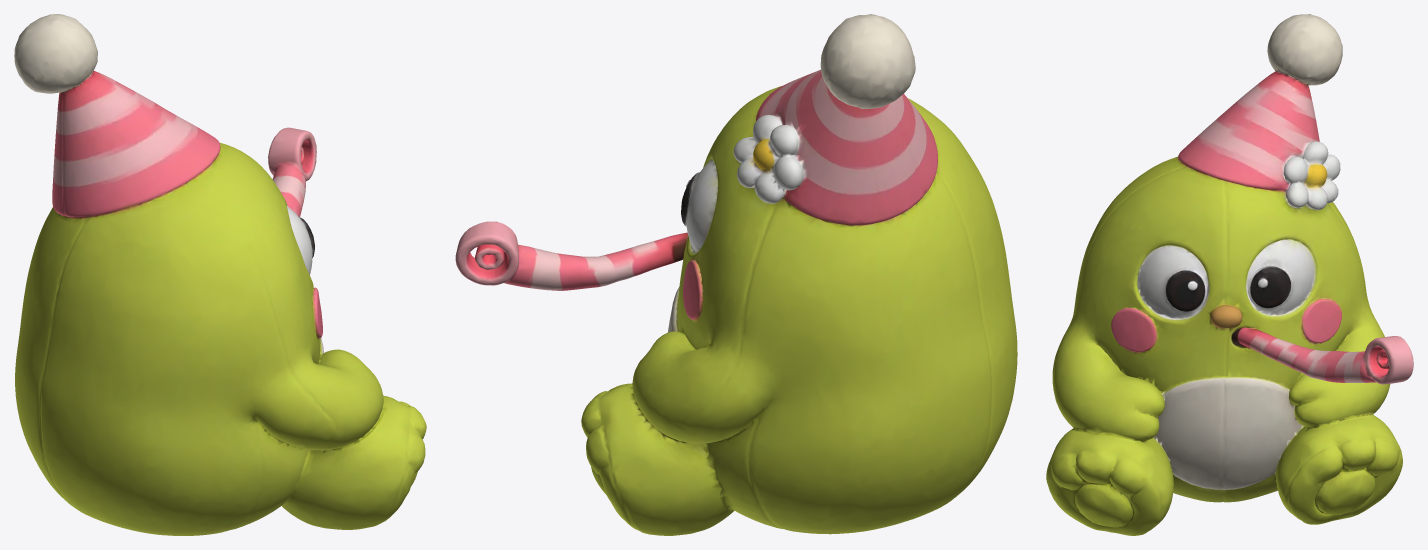
Rendered from partyolly-plush.glb.
3 views of the same model, side by side, from view 1: azimuth 30°, elevation 25°; view 2: azimuth 150°, elevation 25°; view 3: azimuth 270°, elevation 25° (orthographic). The views are drawn at different scales.
Parts seen in each view (by area): view 1: tripo_node_c5b2462b-6887-4158-981f-d2acd923da93; view 2: tripo_node_c5b2462b-6887-4158-981f-d2acd923da93; view 3: tripo_node_c5b2462b-6887-4158-981f-d2acd923da93.
Part boxes in pixels (<box>): tripo_node_c5b2462b-6887-4158-981f-d2acd923da93: <box>14,14,426,535</box>; tripo_node_c5b2462b-6887-4158-981f-d2acd923da93: <box>455,14,1017,535</box>; tripo_node_c5b2462b-6887-4158-981f-d2acd923da93: <box>1046,14,1413,535</box>.
Bounding box in the file's own units: 0.8221 × 1 × 0.779.
1 material, 1 textured.
